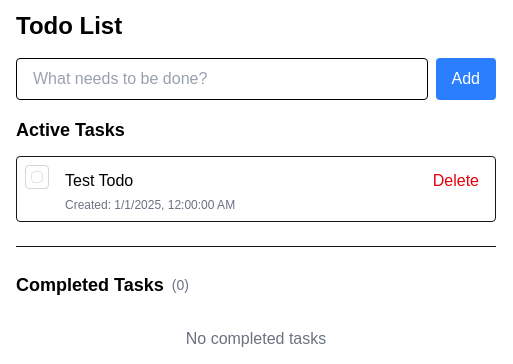
it: TodoList Component › Editing Todos › should cancel editing
Click the text "Test Todo" at coordinates (99, 180), box [65,172,133,189]
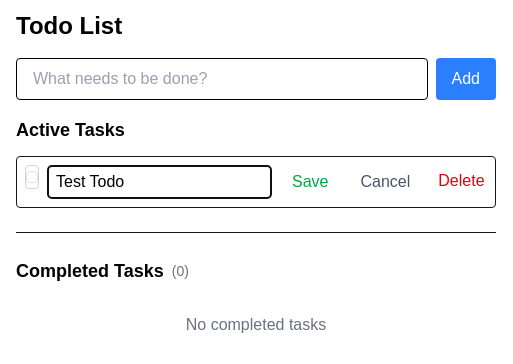
Click the button "Cancel" at coordinates (385, 182), box [348,165,422,199]
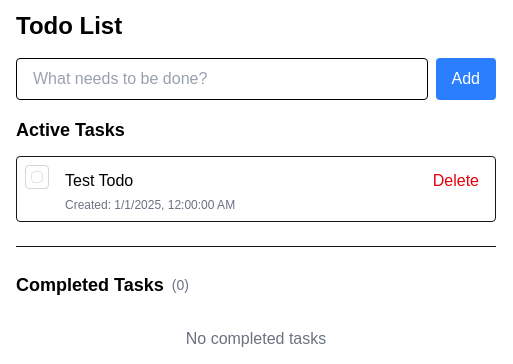
Result: the text "Test Todo" is shown at [65,172,133,189]
